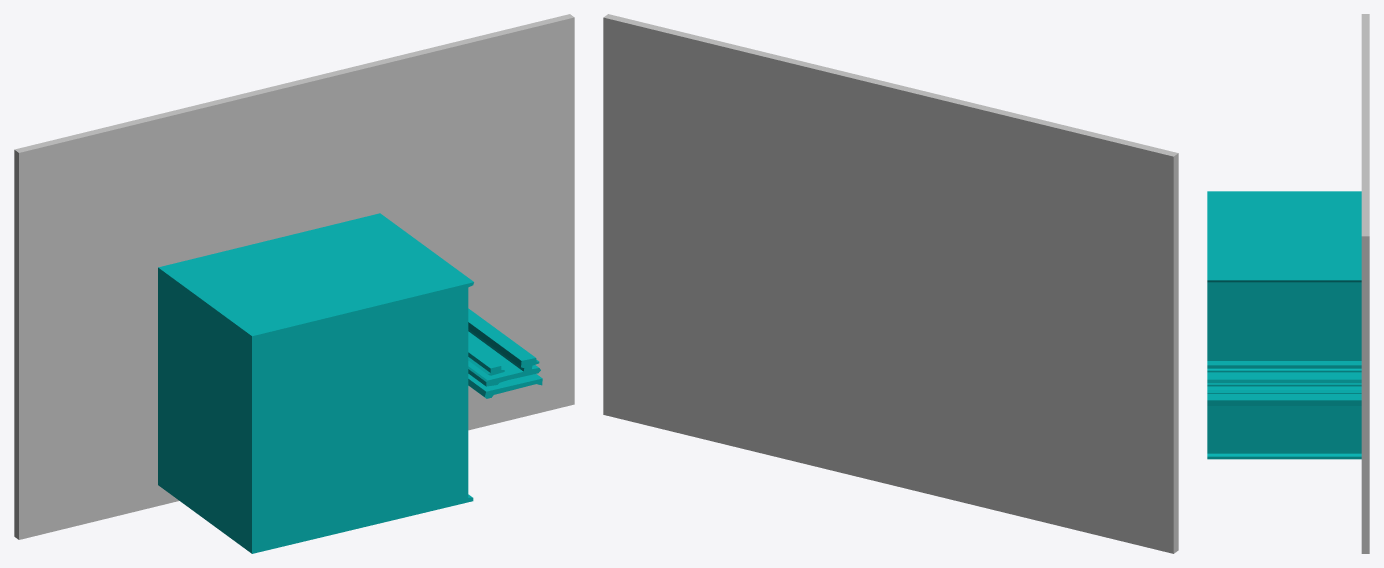
The picture shows the model from 3 angles, left to right: view 1: azimuth 30°, elevation 25°; view 2: azimuth 150°, elevation 25°; view 3: azimuth 270°, elevation 25°; orthographic projection. The views are drawn at different scales.
Visible parts, largest first — view 1: world; view 2: world; view 3: world.
Boxes of the visible parts, x1,y1,x2,y2 form: world: (14, 14, 574, 553); world: (603, 14, 1178, 553); world: (1207, 14, 1369, 553).
Size of the model in its own units: 10.23 by 6.81 by 3.15.
